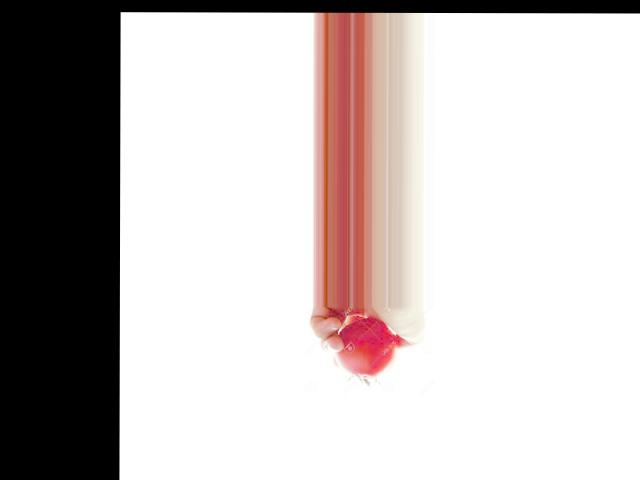tomato: (333, 318, 396, 379)
